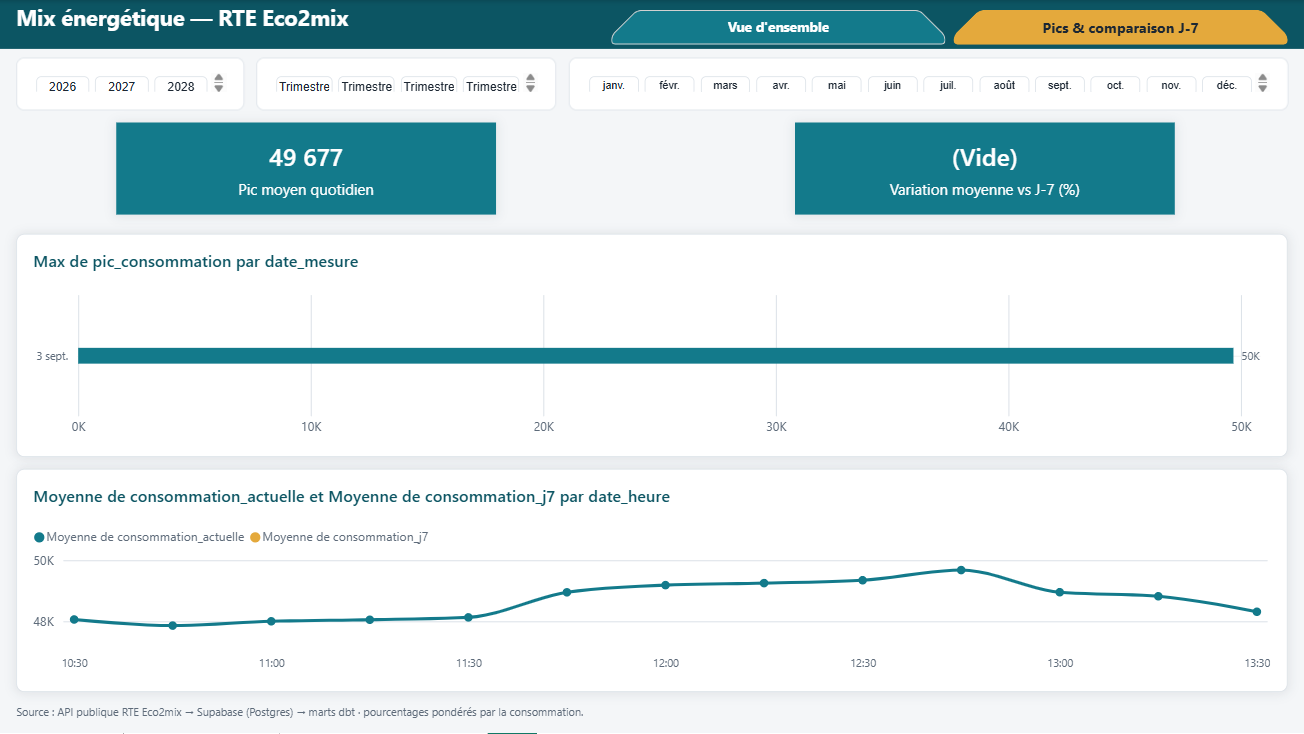

This screenshot's page, from the dashboard's own definition file:
{"tool":"powerbi","page":{"name":"Pics & comparaison J-7","canvas":[1920,1080],"ordinal":1},"visuals":[{"type":"ChicletSlicer1448559807354","fields":{"Category":["dim_date.Hiérarchie Date.Année"]},"box":[12.9,66.3,204.3,97.5],"z":0},{"type":"pageNavigator","box":[0,0,1920.4,49.4],"z":1000},{"type":"ChicletSlicer1448559807354","fields":{"Category":["dim_date.Hiérarchie Date.Trimestre"]},"box":[264.8,63.8,231.1,97.6],"z":2000},{"type":"ChicletSlicer1448559807354","fields":{"Category":["dim_date.Hiérarchie Date.Mois"]},"box":[535.9,63.7,612.9,97.5],"z":3000},{"type":"card","fields":{"Values":["mart_pics_quotidiens.Pic moyen quotidien"]},"box":[185.3,207.2,547.8,137.5],"z":5000},{"type":"clusteredBarChart","fields":{"Category":["mart_mix_energetique.date_mesure"],"Y":["Max(mart_pics_quotidiens.pic_consommation)"]},"box":[41.8,372.5,1834.7,332.7],"z":8000},{"type":"card","fields":{"Values":["mart_comparaison_j7.Variation moyenne vs J-7 (%)"]},"box":[1165.4,207.2,547.8,137.5],"z":10001},{"type":"lineChart","fields":{"Category":["mart_comparaison_j7.date_heure"],"Y":["Avg(mart_comparaison_j7.consommation_actuelle)","Avg(mart_comparaison_j7.consommation_j7)"]},"box":[41.8,723.1,1834.7,332.7],"z":10002}]}

Visuals, with their boxes in screenshot pixels (x1, y1, x2, y2), scaled from the page's 1920x1080 canvas onto the 1304x734 screenshot:
ChicletSlicer1448559807354 - dim_date.Hiérarchie Date.Année: pyautogui.locateOnScreen(9, 45, 148, 111)
pageNavigator: pyautogui.locateOnScreen(0, 0, 1303, 34)
ChicletSlicer1448559807354 - dim_date.Hiérarchie Date.Trimestre: pyautogui.locateOnScreen(180, 43, 337, 110)
ChicletSlicer1448559807354 - dim_date.Hiérarchie Date.Mois: pyautogui.locateOnScreen(364, 43, 780, 110)
card - mart_pics_quotidiens.Pic moyen quotidien: pyautogui.locateOnScreen(126, 141, 498, 234)
clusteredBarChart - mart_mix_energetique.date_mesure x Max(mart_pics_quotidiens.pic_consommation): pyautogui.locateOnScreen(28, 253, 1274, 479)
card - mart_comparaison_j7.Variation moyenne vs J-7 (%): pyautogui.locateOnScreen(792, 141, 1164, 234)
lineChart - mart_comparaison_j7.date_heure x Avg(mart_comparaison_j7.consommation_actuelle): pyautogui.locateOnScreen(28, 491, 1274, 718)
